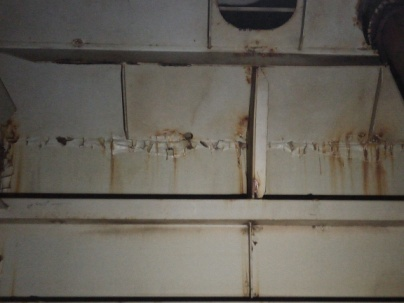corrosion: (328, 133, 398, 194), (227, 108, 252, 194), (144, 127, 204, 162), (0, 106, 24, 187), (239, 33, 279, 74), (39, 125, 75, 160), (239, 220, 273, 243)
